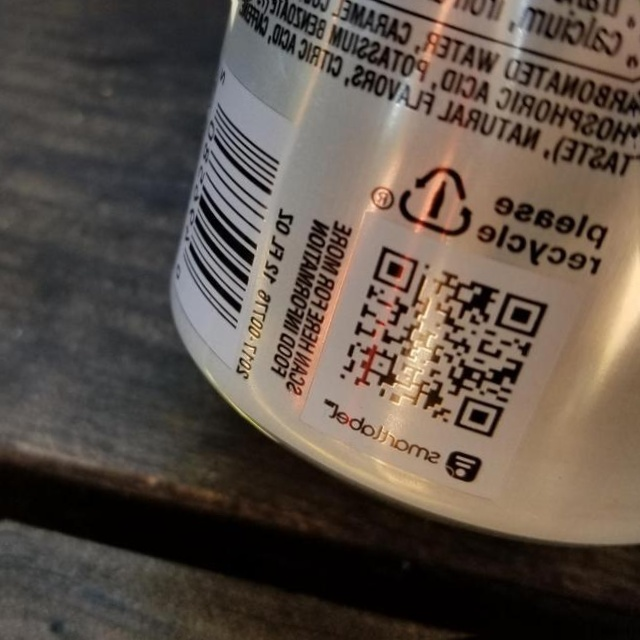qr-code: (320, 224, 567, 449)
